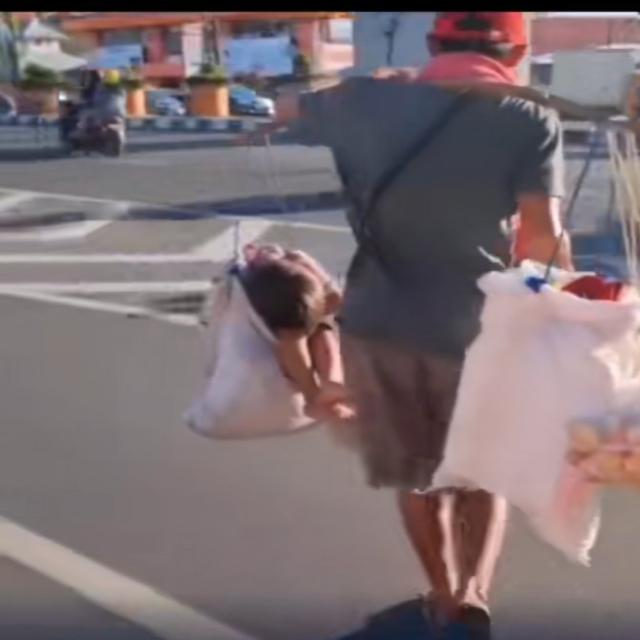Panggul: (35, 8, 640, 640)
